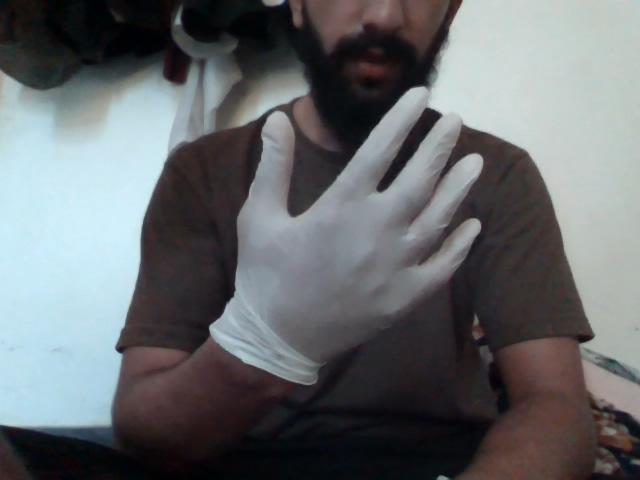gloves: (208, 82, 501, 384)
